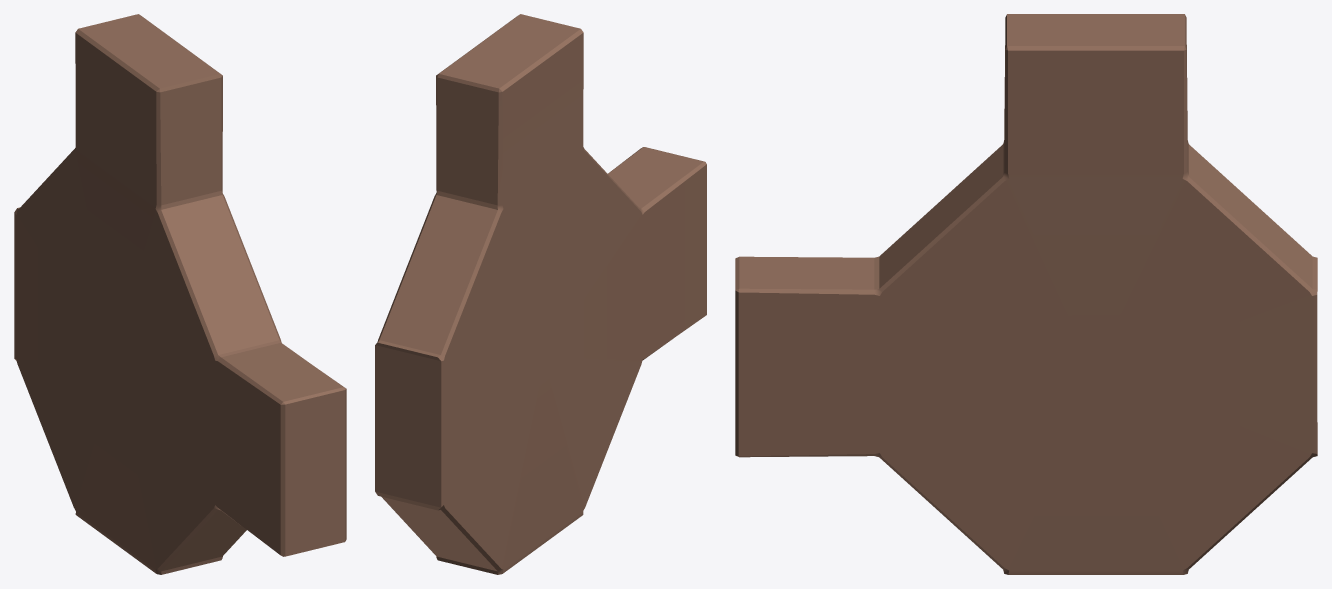
File: Pipe_Diamond_Cut_03.fbx
The picture shows the model from 3 angles, left to right: view 1: azimuth 30°, elevation 25°; view 2: azimuth 150°, elevation 25°; view 3: azimuth 270°, elevation 25°; orthographic projection. The views are drawn at different scales.
Parts seen in each view (by area): view 1: Pipe_Diamond_Cut_03; view 2: Pipe_Diamond_Cut_03; view 3: Pipe_Diamond_Cut_03.
Boxes of the visible parts, x1,y1,x2,y2 form: Pipe_Diamond_Cut_03: (14,14,346,574); Pipe_Diamond_Cut_03: (375,14,706,574); Pipe_Diamond_Cut_03: (735,14,1317,574).
Bounding box in the file's own units: 0.9889 × 6.86 × 6.86.
